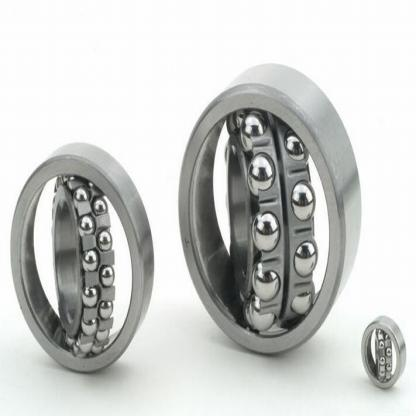FOD: (10, 139, 154, 375)
